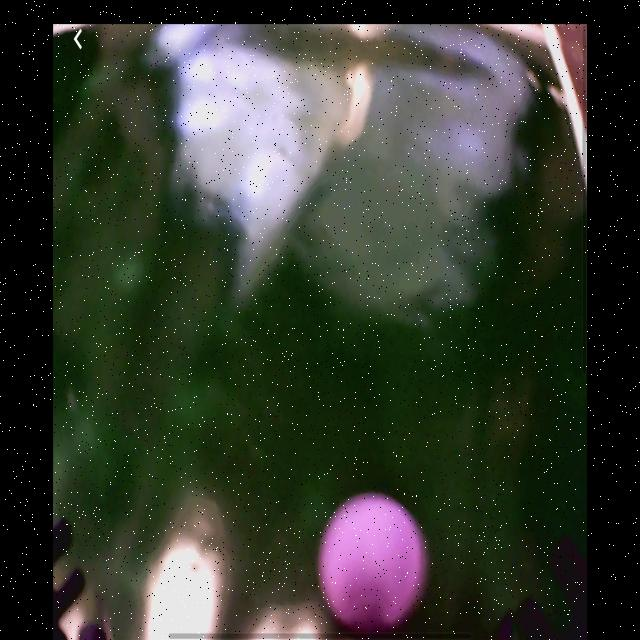ball: (319, 490, 427, 626)
